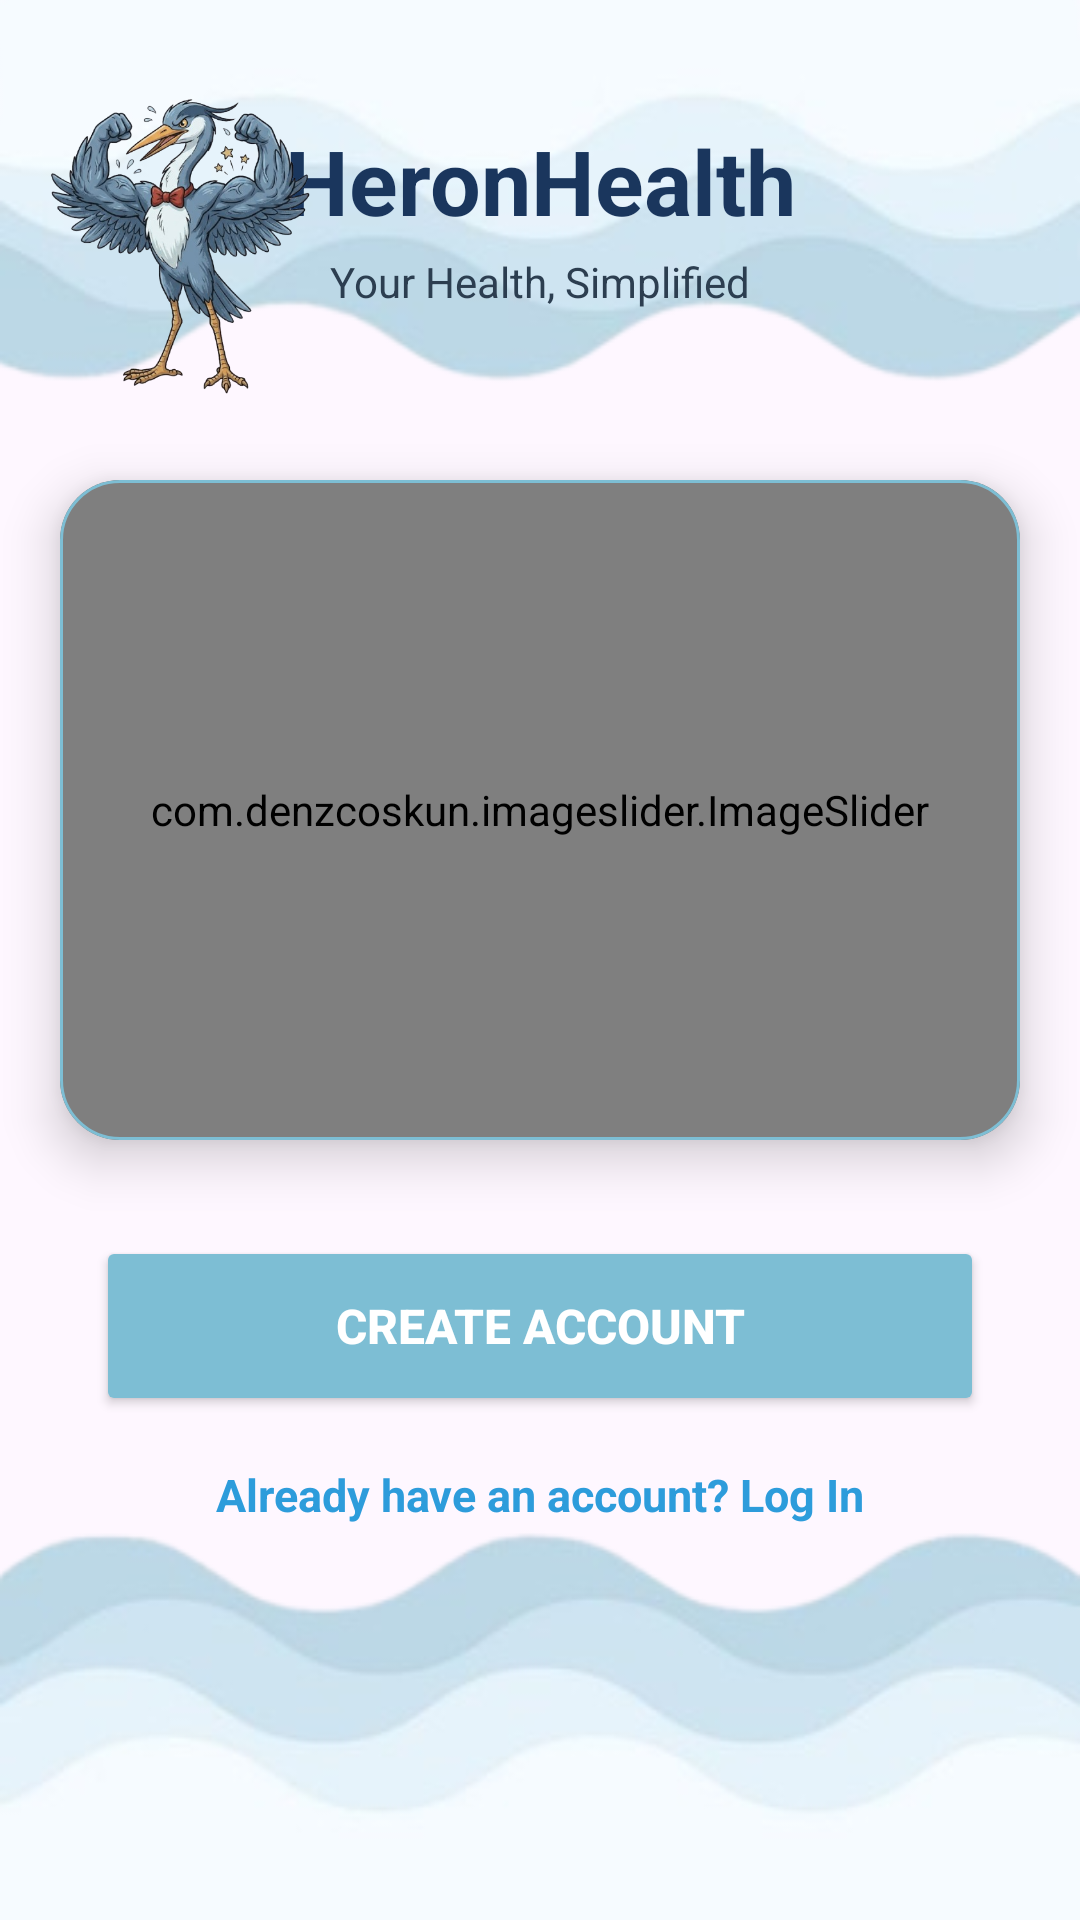

Where icons sit on this 1080px x 1920px app screen, as [left=x1, top=y1, right=x2, bottom=y2]:
heronstrong: [left=0, top=99, right=360, bottom=394]
